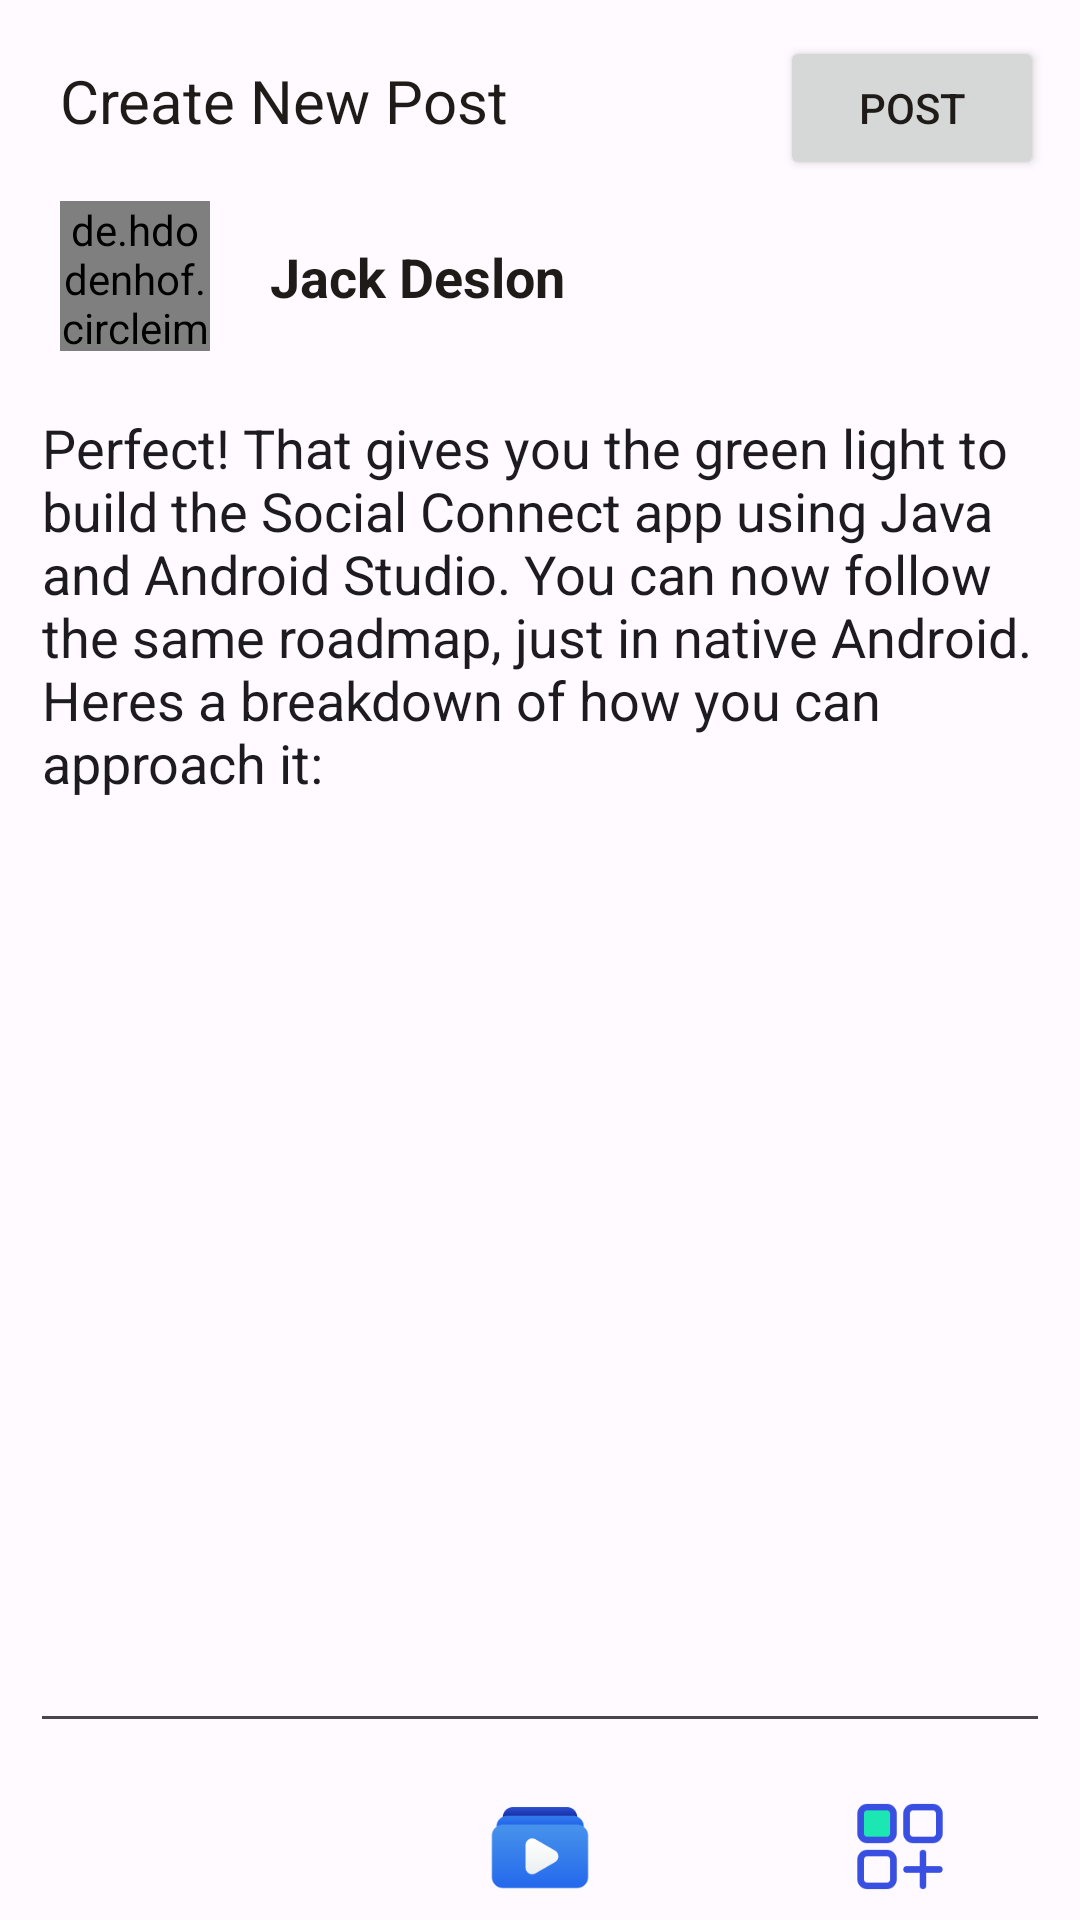

Icons on this 1080px x 1920px Android screen, each with the point to tap as (x,y):
videos: (540,1848)
